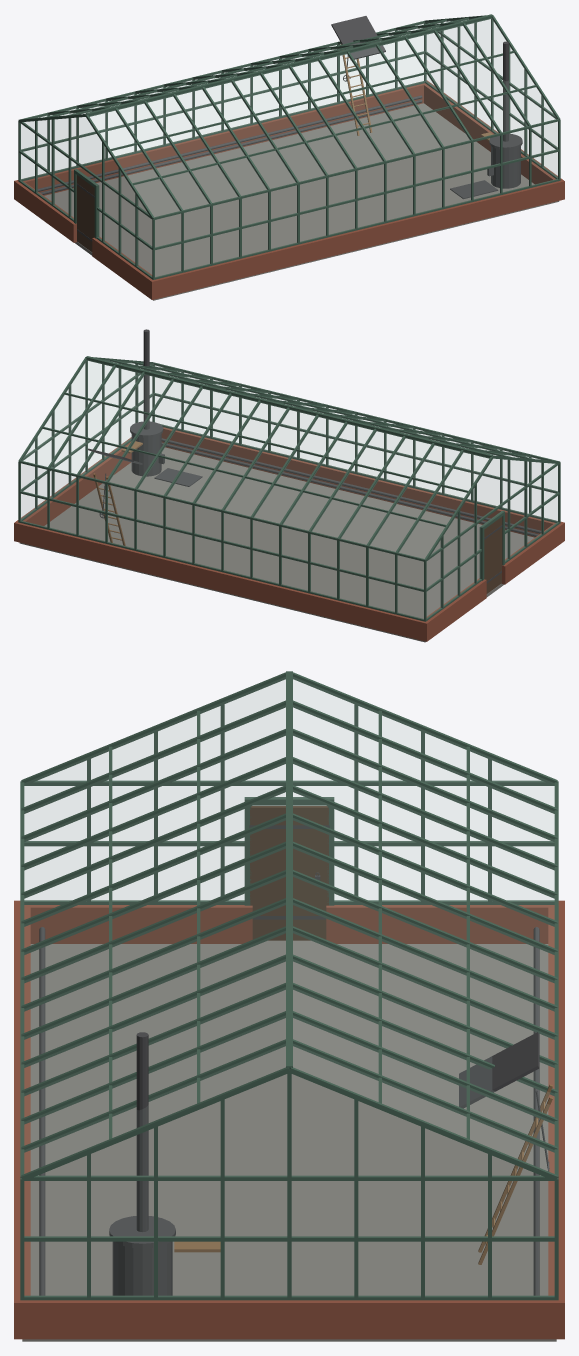
File: Greenhouse_Room.fbx
The picture shows the model from 3 angles, top to bottom: view 1: azimuth 30°, elevation 25°; view 2: azimuth 150°, elevation 25°; view 3: azimuth 270°, elevation 25°; orthographic projection. The views are drawn at different scales.
Parts seen in each view (by area): view 1: GH_Floor, GH_Frame, GH_Glass, GH_BrickBase, GH_Boiler, GH_Door, GH_VentAndCrank, GH_Ladder; view 2: GH_Floor, GH_Frame, GH_Glass, GH_BrickBase, GH_Boiler, GH_Door, GH_Ladder; view 3: GH_Floor, GH_Frame, GH_Glass, GH_BrickBase, GH_Boiler, GH_Door, GH_VentAndCrank, GH_Ladder.
Boxes of the visible parts, bbox=[...] form: GH_Floor: bbox=[44, 103, 559, 300]; GH_Frame: bbox=[18, 14, 560, 279]; GH_Glass: bbox=[21, 19, 557, 179]; GH_BrickBase: bbox=[14, 80, 564, 299]; GH_Boiler: bbox=[37, 41, 522, 199]; GH_Door: bbox=[76, 175, 94, 251]; GH_VentAndCrank: bbox=[331, 16, 385, 81]; GH_Ladder: bbox=[340, 44, 372, 135]; GH_Floor: bbox=[19, 447, 534, 642]; GH_Frame: bbox=[18, 356, 560, 621]; GH_Glass: bbox=[21, 361, 557, 521]; GH_BrickBase: bbox=[14, 427, 564, 641]; GH_Boiler: bbox=[130, 329, 541, 536]; GH_Door: bbox=[484, 517, 502, 593]; GH_Ladder: bbox=[93, 473, 125, 545]; GH_Floor: bbox=[22, 940, 556, 1341]; GH_Frame: bbox=[20, 671, 558, 1300]; GH_Glass: bbox=[24, 679, 554, 901]; GH_BrickBase: bbox=[14, 900, 564, 1339]; GH_Boiler: bbox=[39, 927, 539, 1295]; GH_Door: bbox=[250, 806, 328, 940]; GH_VentAndCrank: bbox=[459, 1032, 549, 1171]; GH_Ladder: bbox=[478, 1084, 552, 1264].
Size of what is drawn, in the model's own units: 14.25 by 4.7 by 8.25.
